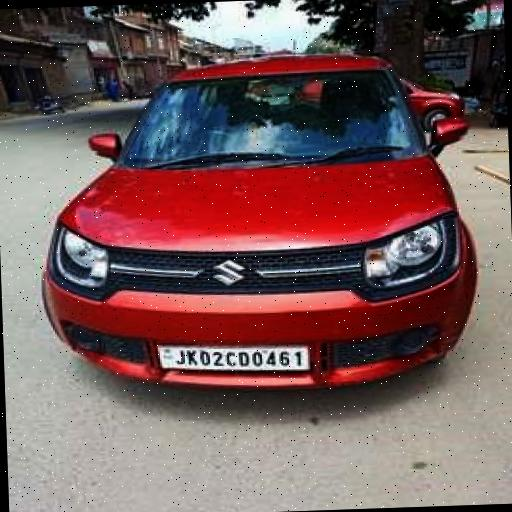license_plate`: (153, 338, 308, 372)
